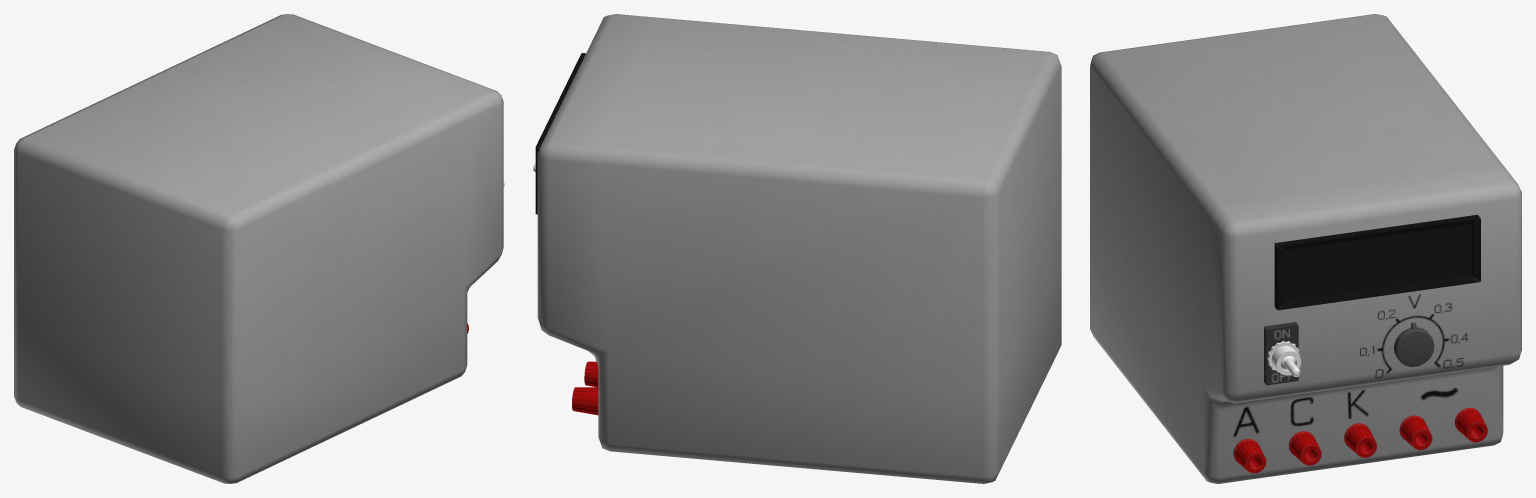
File: Power block.fbx
3 renders of one model, left to right at view 1: azimuth 30°, elevation 25°; view 2: azimuth 150°, elevation 25°; view 3: azimuth 270°, elevation 25°, orthographic. The views are drawn at different scales.
Parts seen in each view (by area): view 1: Power block.002; view 2: Power block.002, Pov socket.002, Display.002; view 3: Power block.002, Display.002, Pov socket.002, Switch 1.002, Rheostat 1.002.
Part boxes in pixels (x1,y1,x2,y2): Power block.002: (14, 14, 503, 483); Power block.002: (537, 14, 1061, 483); Pov socket.002: (572, 361, 598, 415); Display.002: (535, 53, 585, 214); Power block.002: (1090, 14, 1521, 483); Display.002: (1274, 214, 1480, 310); Pov socket.002: (1233, 408, 1487, 473); Switch 1.002: (1264, 322, 1301, 385); Rheostat 1.002: (1394, 322, 1434, 366).
Bounding box in the file's own units: 349 × 200 × 273.
